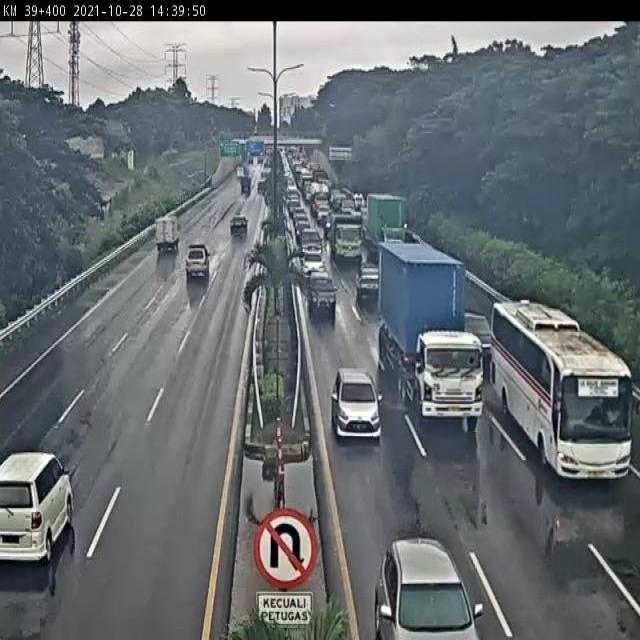big bus: (491, 305, 633, 483)
big truck: (376, 237, 480, 420)
car: (373, 537, 483, 640), (0, 449, 74, 562), (328, 372, 377, 440), (446, 309, 488, 364), (305, 269, 338, 312), (183, 248, 214, 285), (352, 259, 377, 297), (298, 224, 323, 256), (228, 220, 250, 243)
mid truck: (325, 212, 361, 257)
small truck: (151, 216, 186, 259)
